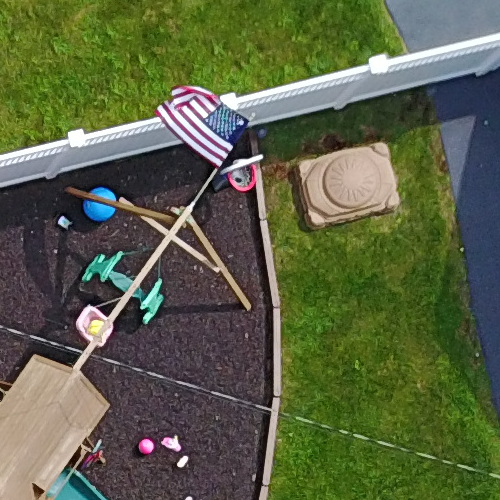basketball: (178, 143, 264, 202)
